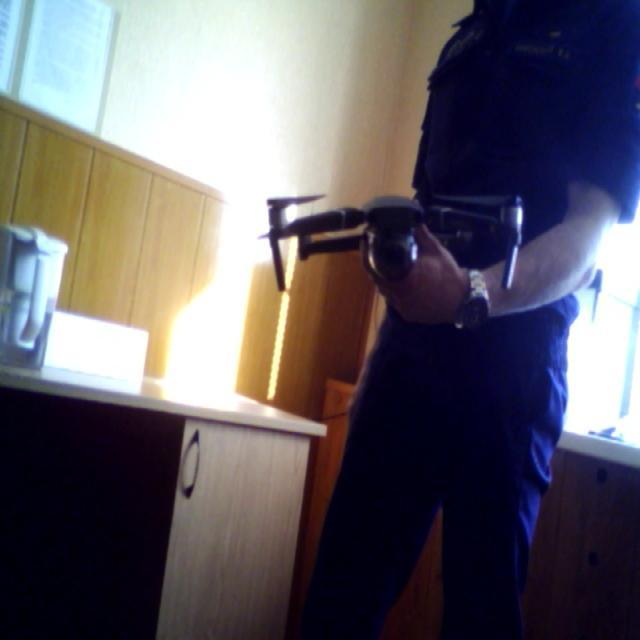drone: (237, 181, 558, 320)
